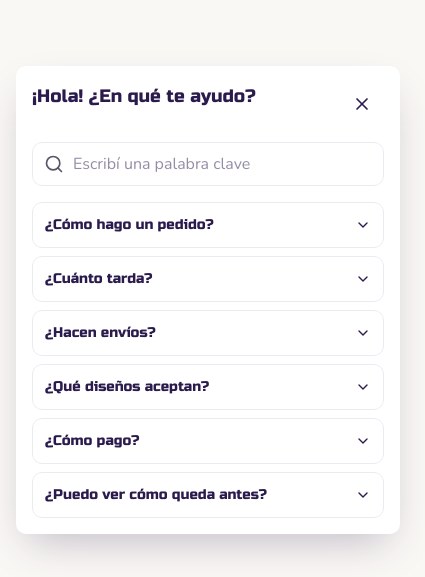
PanelAsistente › mantiene una sola respuesta abierta a la vez
Step 1. Click the button "¿Cómo hago un pedido?" → coordinates (208, 225), box top-left (33, 203), bottom-right (383, 247)
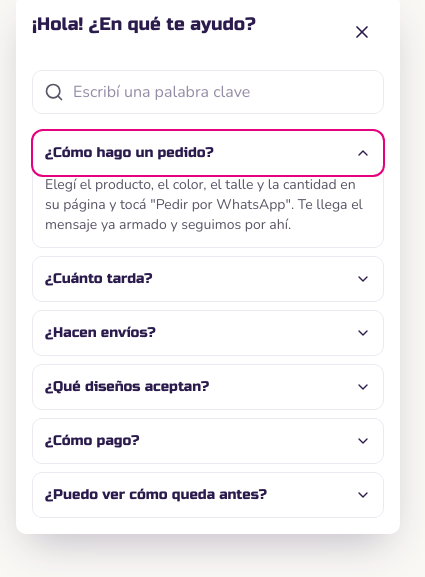
Result: the text "Elegí el producto, el color, el talle y la cantidad en su página y tocá \"Pedir por WhatsApp\". Te llega el mensaje ya arm" is shown at top-left (45, 175), bottom-right (363, 234)
Step 2. Click the button "¿Cuánto tarda?" → coordinates (99, 278), box top-left (33, 257), bottom-right (383, 301)
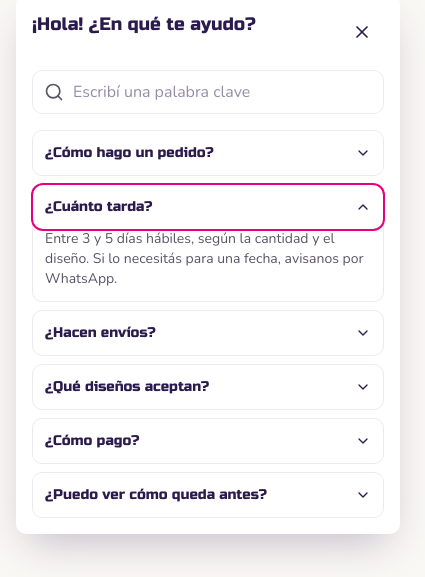
Result: the text "Entre 3 y 5 días hábiles, según la cantidad y el diseño. Si lo necesitás para una fecha, avisanos por WhatsApp." is shown at top-left (45, 229), bottom-right (364, 288)
Result: the text "Elegí el producto, el color, el talle y la cantidad en su página y tocá \"Pedir por WhatsApp\". Te llega el mensaje ya arm" is gone
